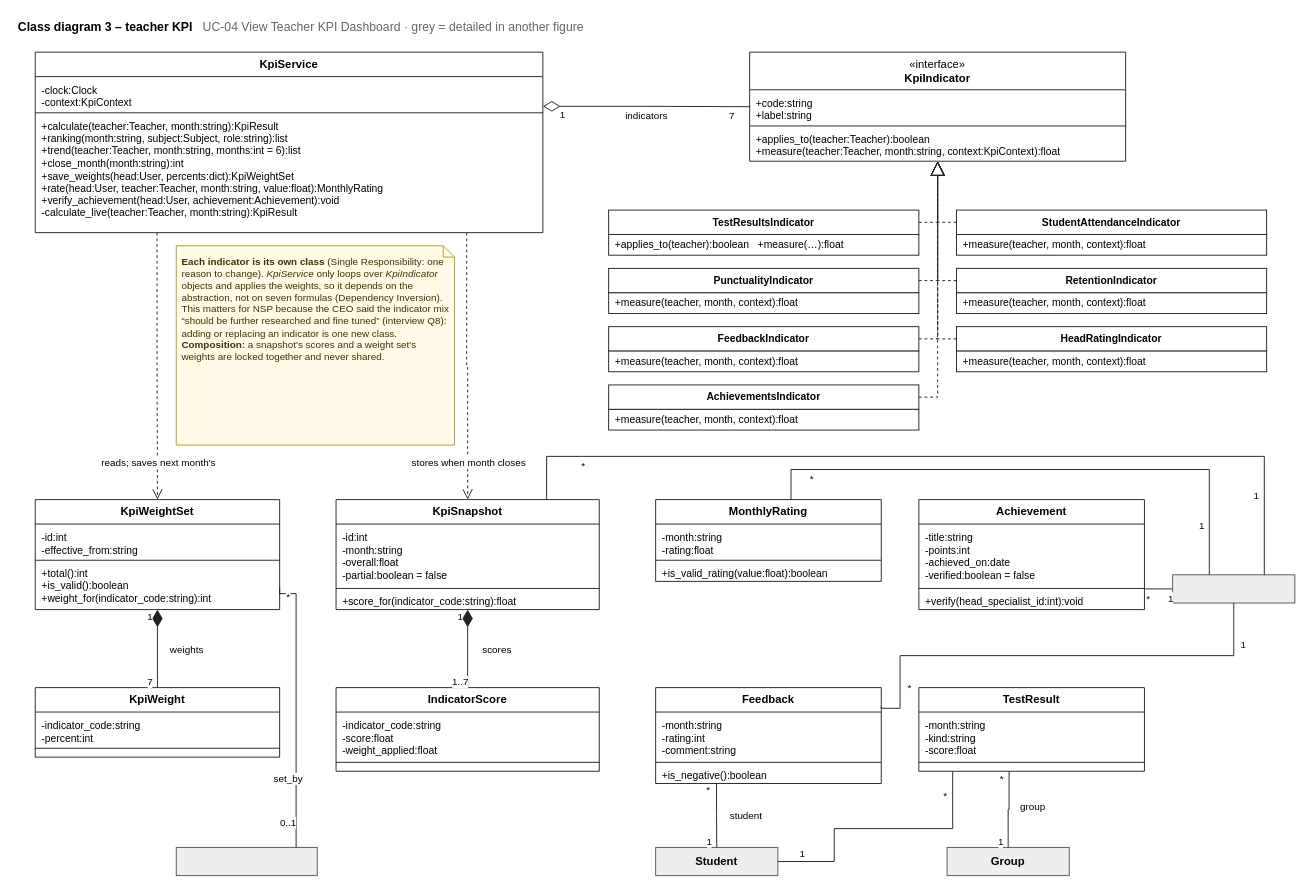
Some shapes in this 1311 by 892 pixel diagram are drawn without their labels. Here are the shapes that lost their labels. From the top down, the centre of each, then its label:
At point (1233, 588): "Teacher".
At point (246, 861): "HeadSpecialist".
